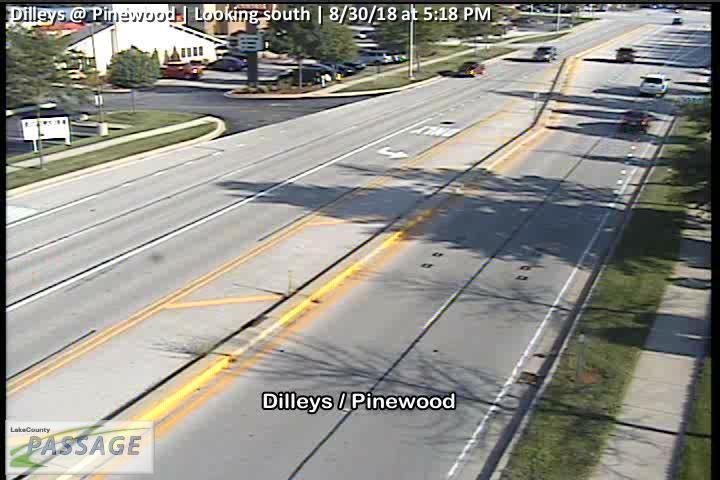SUV: (158, 62, 201, 79), (641, 73, 671, 95), (623, 110, 653, 131), (359, 50, 393, 63), (615, 47, 636, 63)
Sedan: (277, 63, 336, 81), (206, 57, 248, 72), (458, 61, 487, 77), (325, 61, 355, 76), (534, 47, 559, 62), (345, 60, 366, 70), (673, 17, 684, 24)
